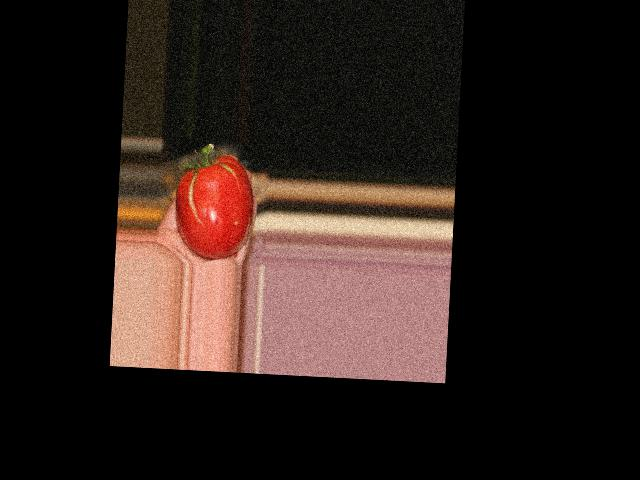tomato: (174, 152, 256, 261)
